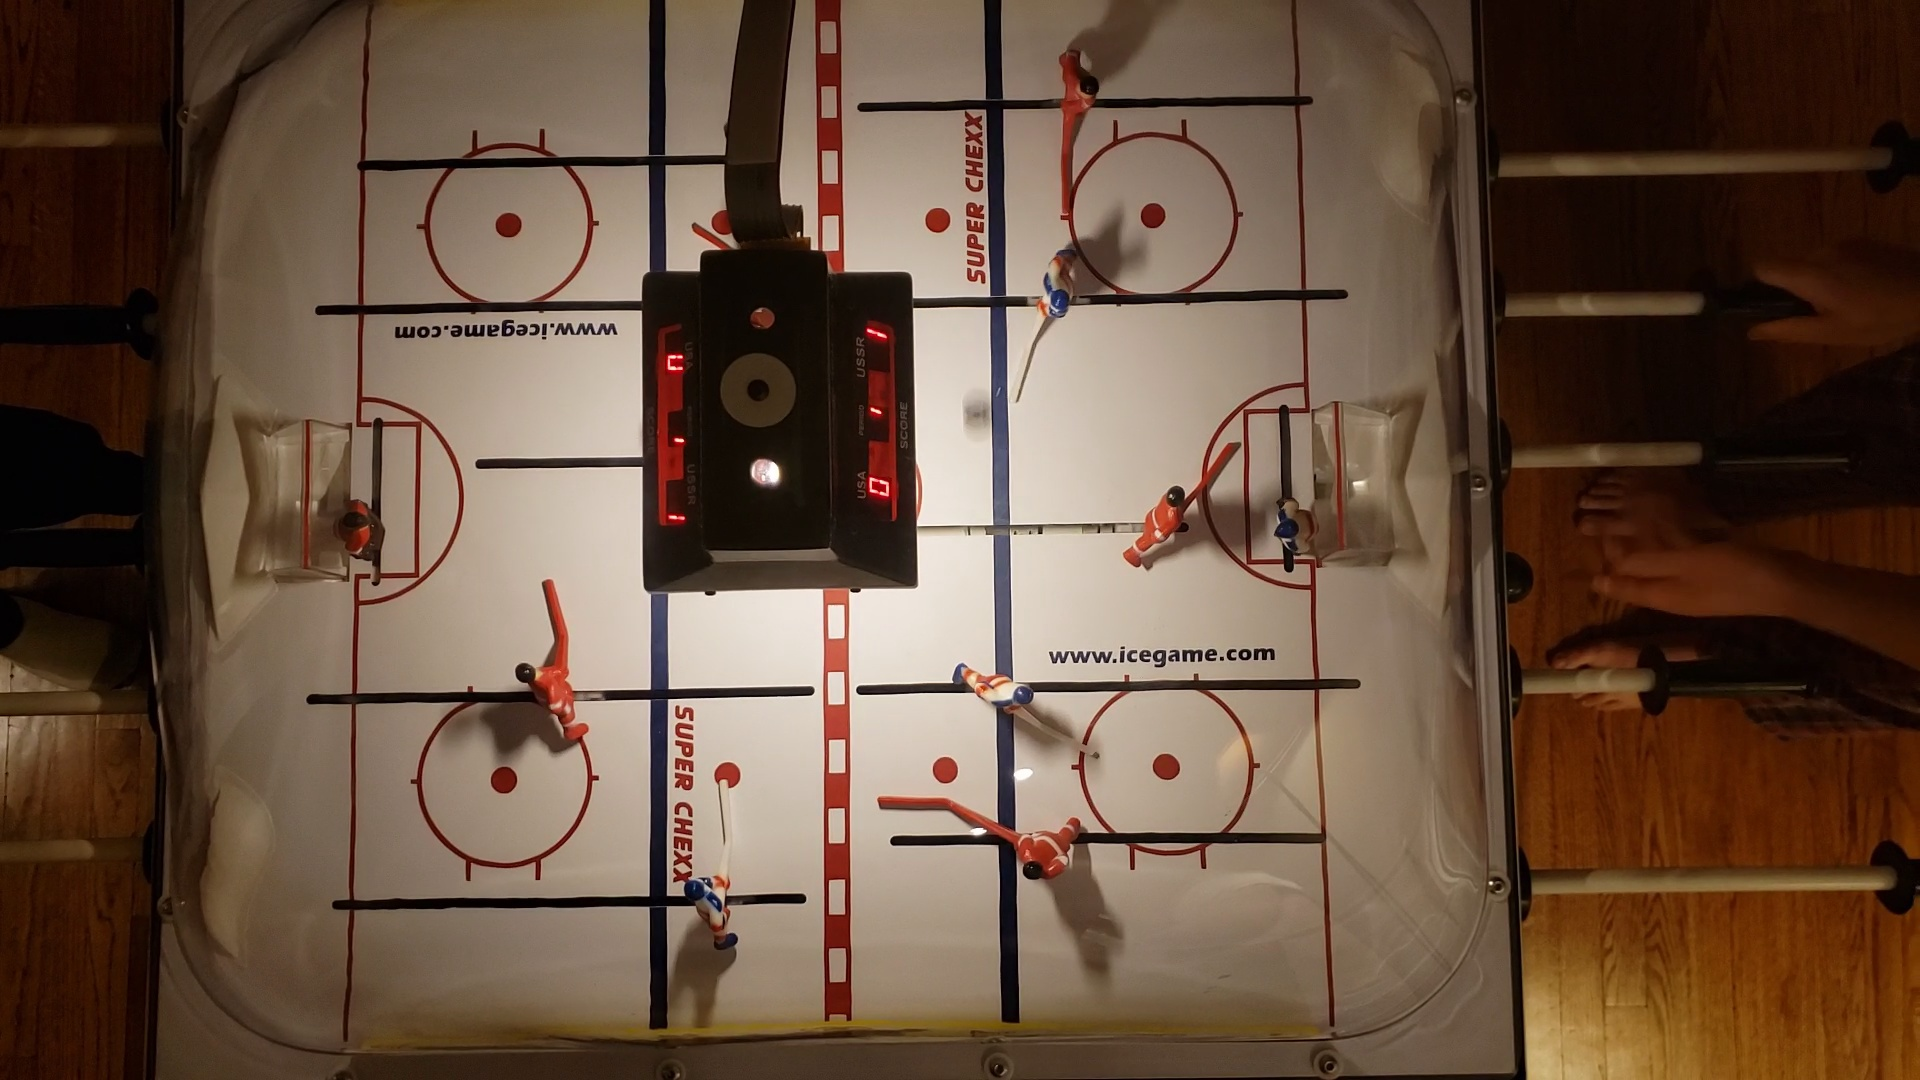puck: (963, 402, 996, 434)
